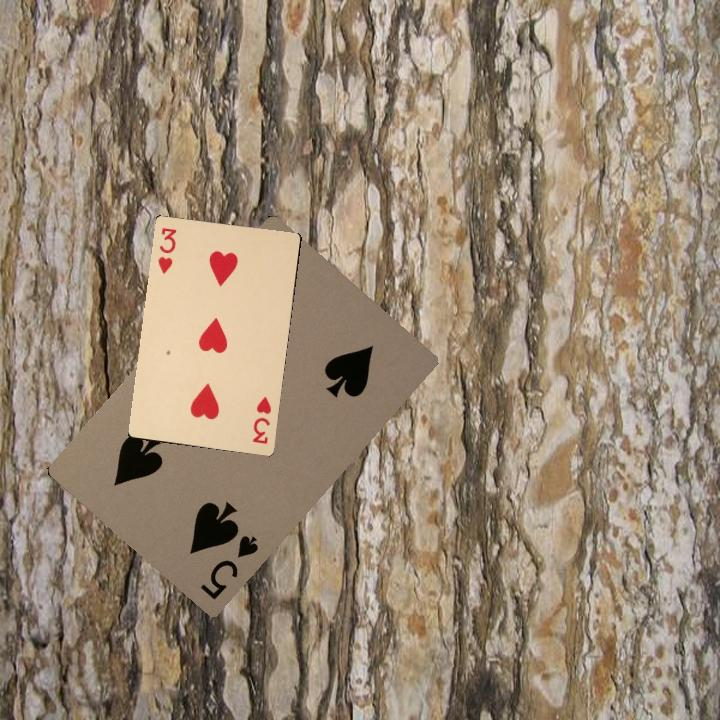3h: (249, 392, 274, 447), (154, 223, 179, 277)
5s: (196, 531, 261, 603)
